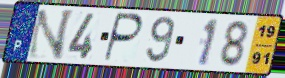1: (198, 18, 221, 68)
4: (66, 11, 96, 61)
8: (218, 19, 251, 68)
9: (145, 16, 176, 65)
N: (24, 8, 77, 61)
P: (101, 11, 145, 64)
